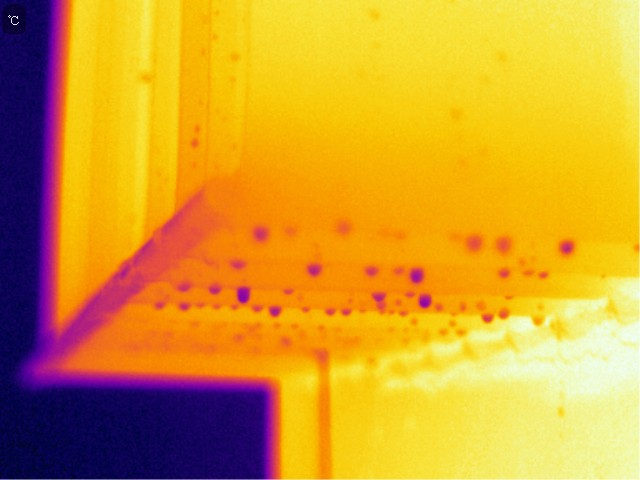Water: (170, 280, 224, 296), (460, 228, 486, 253), (337, 302, 361, 326), (522, 266, 552, 285), (369, 289, 391, 314), (481, 309, 515, 325), (252, 226, 279, 246), (493, 235, 520, 254), (234, 282, 257, 304), (225, 256, 255, 272), (362, 261, 387, 280), (494, 264, 516, 283), (335, 218, 361, 234), (526, 311, 550, 328), (558, 239, 578, 259), (410, 265, 429, 285), (415, 293, 435, 312), (265, 302, 284, 322), (307, 265, 329, 278), (317, 305, 337, 319), (179, 301, 195, 315), (150, 298, 164, 311), (282, 287, 300, 296), (252, 301, 262, 316)
